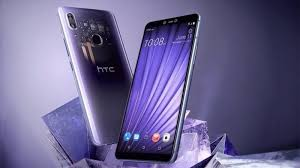htc: (114, 7, 200, 167)
